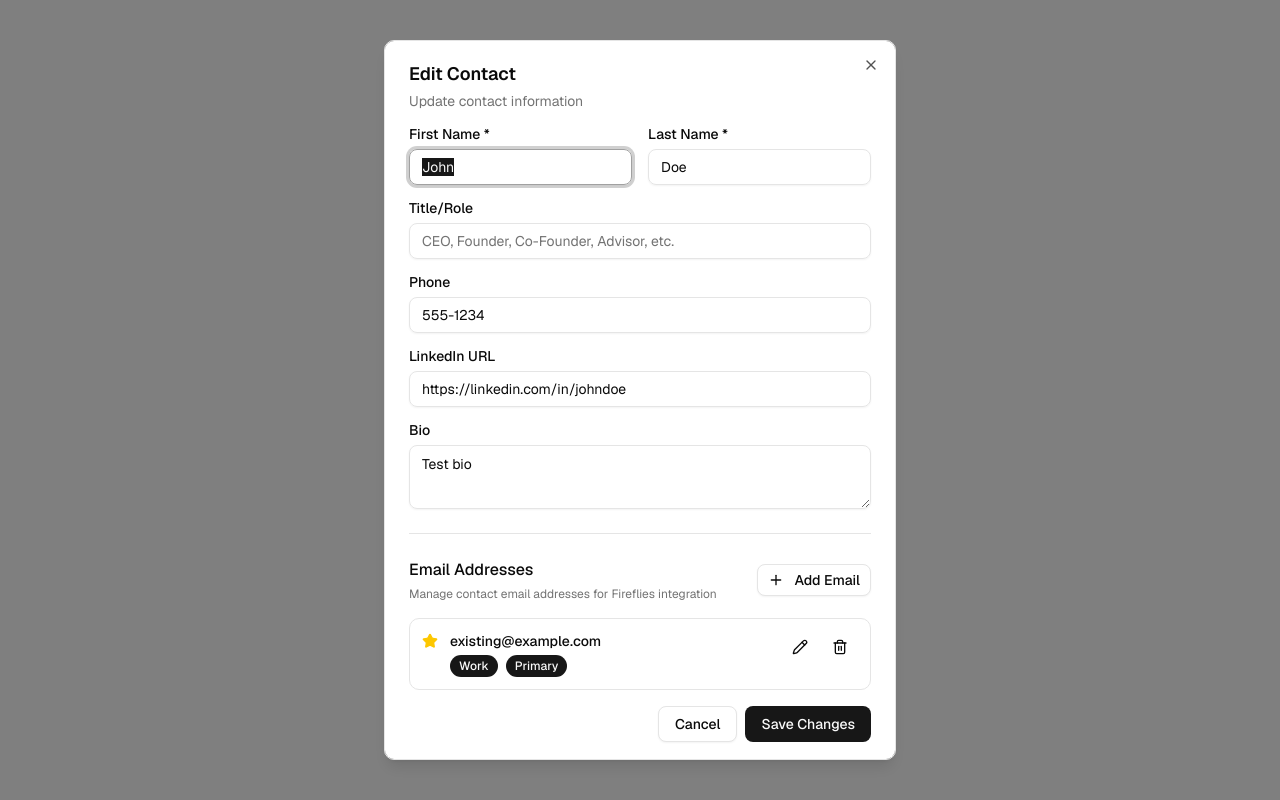
Scenario: EditContactModal - Inline Email Form › Primary Email Auto-set › should not auto-check primary when contact has existing emails
Click the button "Add Email". click: (814, 580)
box: 757,564 -> 871,596
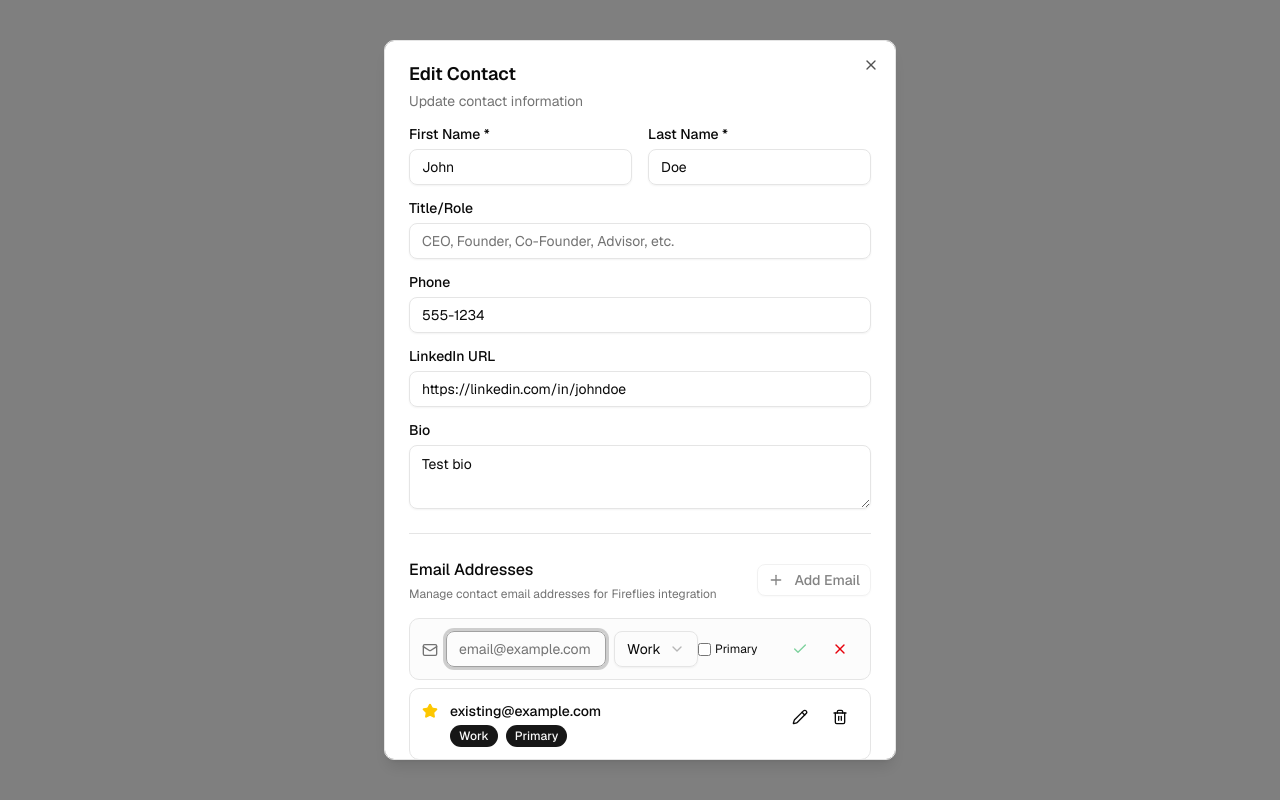
expect the checkbox is not checked: met, box 698,642 -> 711,656
